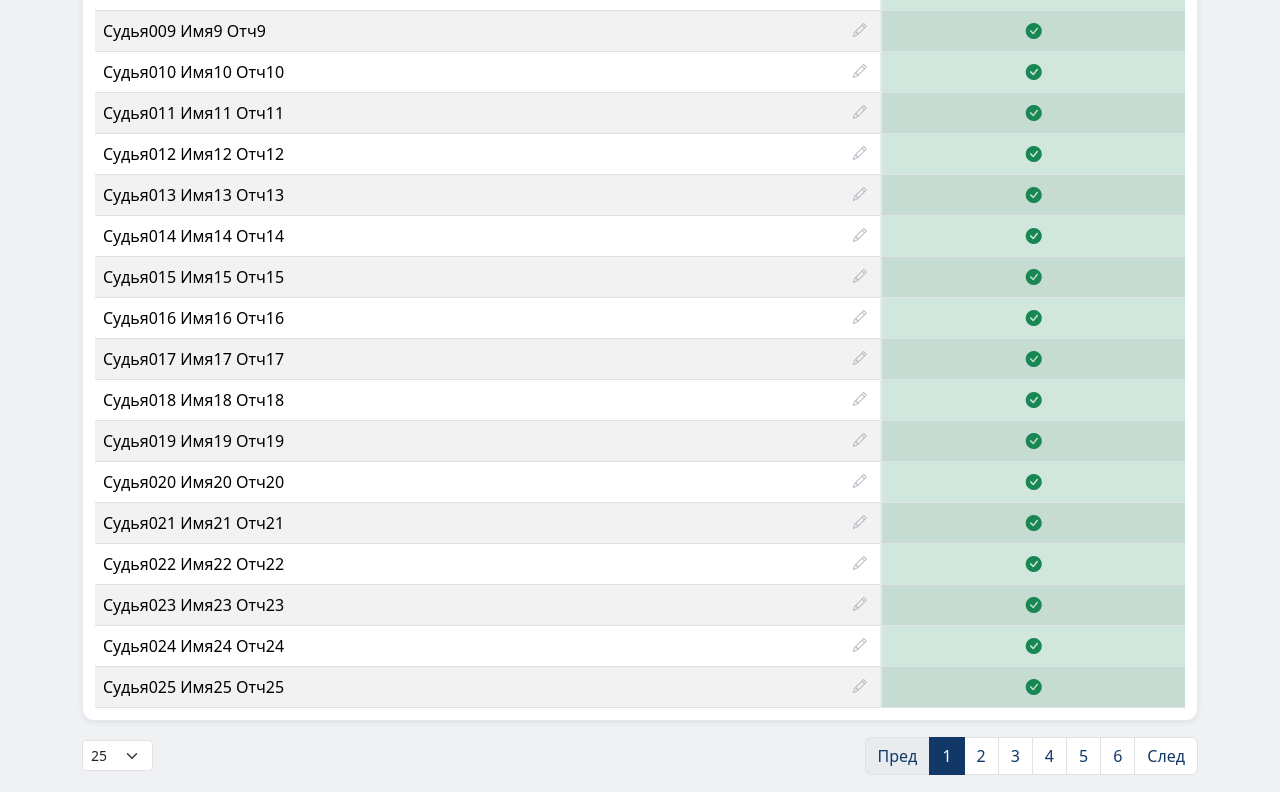
Test: AdminRefereeAvailability view › renders 150 referees with server pagination
The image size is (1280, 792).
(page scrolled)
Expected: the text "Судья026 Имя26 Отч26" is not shown
Click the button "2" at (981, 756), box [964,737,999,775]
(page scrolled)
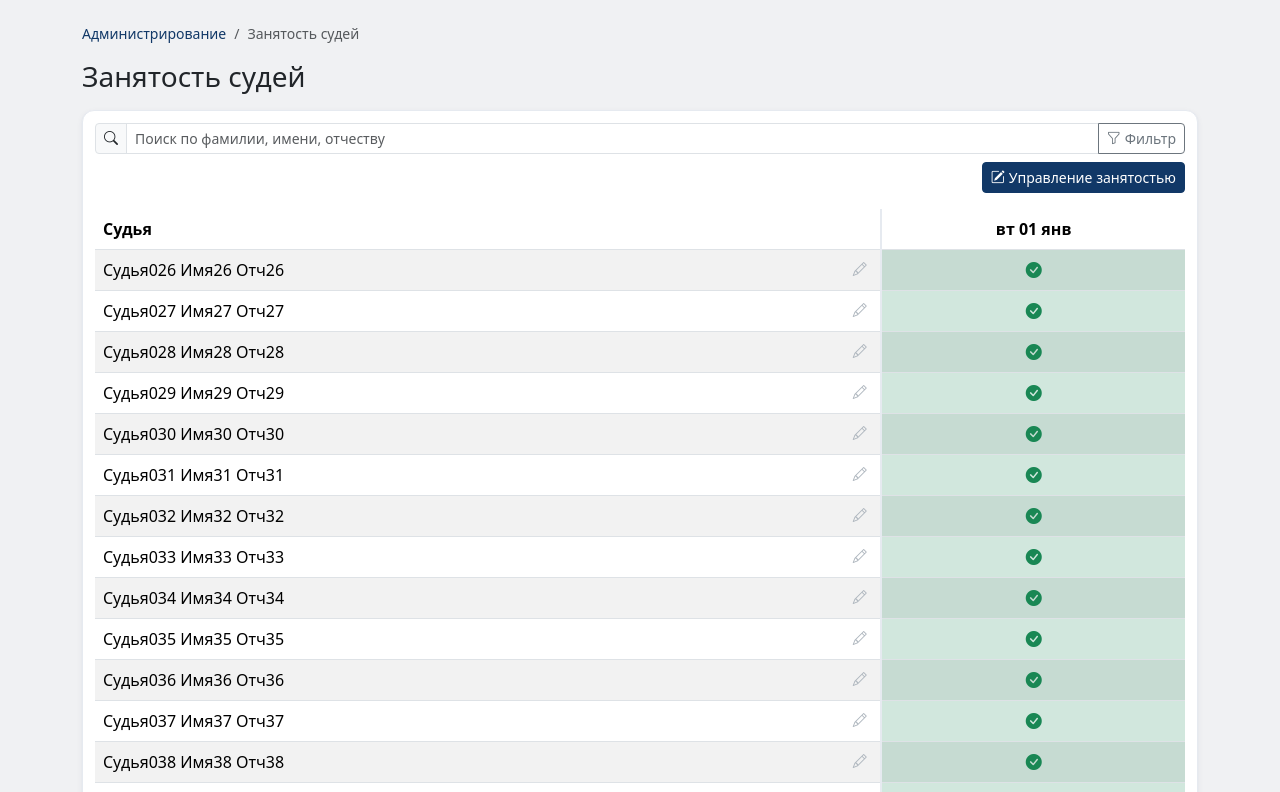
Expected: the text "Судья026 Имя26 Отч26" is shown, [103,259,284,281]
